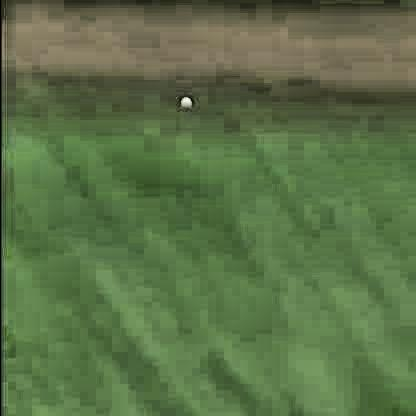golfball: (177, 93, 188, 104)
